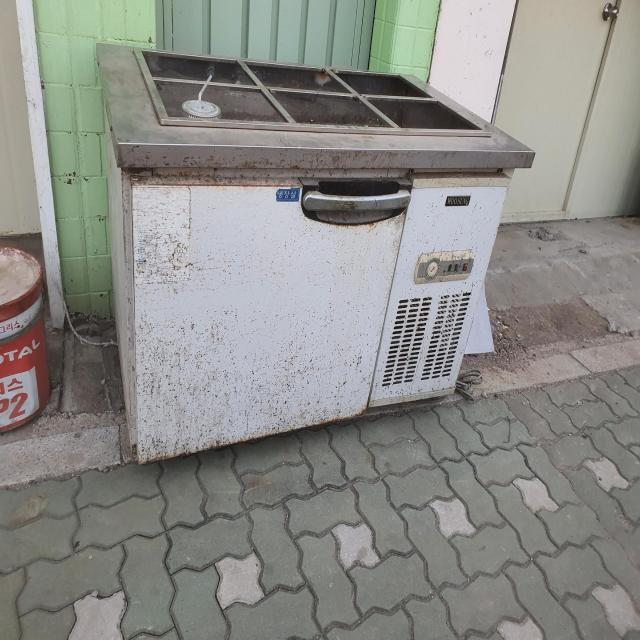refrigerator: (92, 38, 538, 470)
